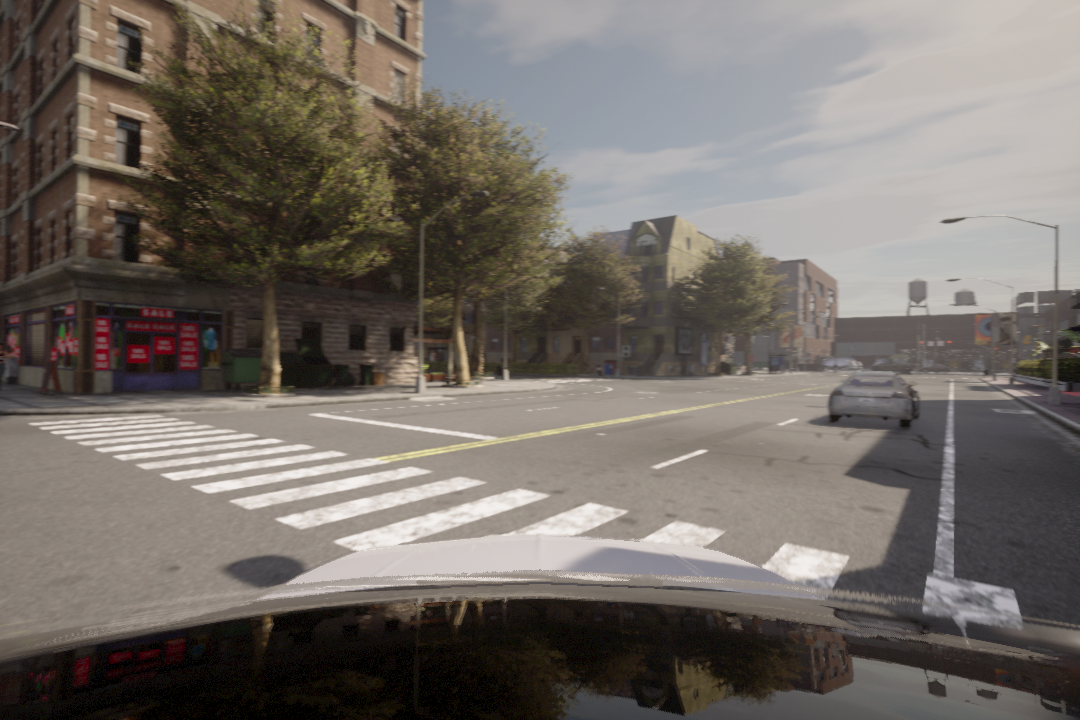walkside: (35, 421, 1052, 667)
